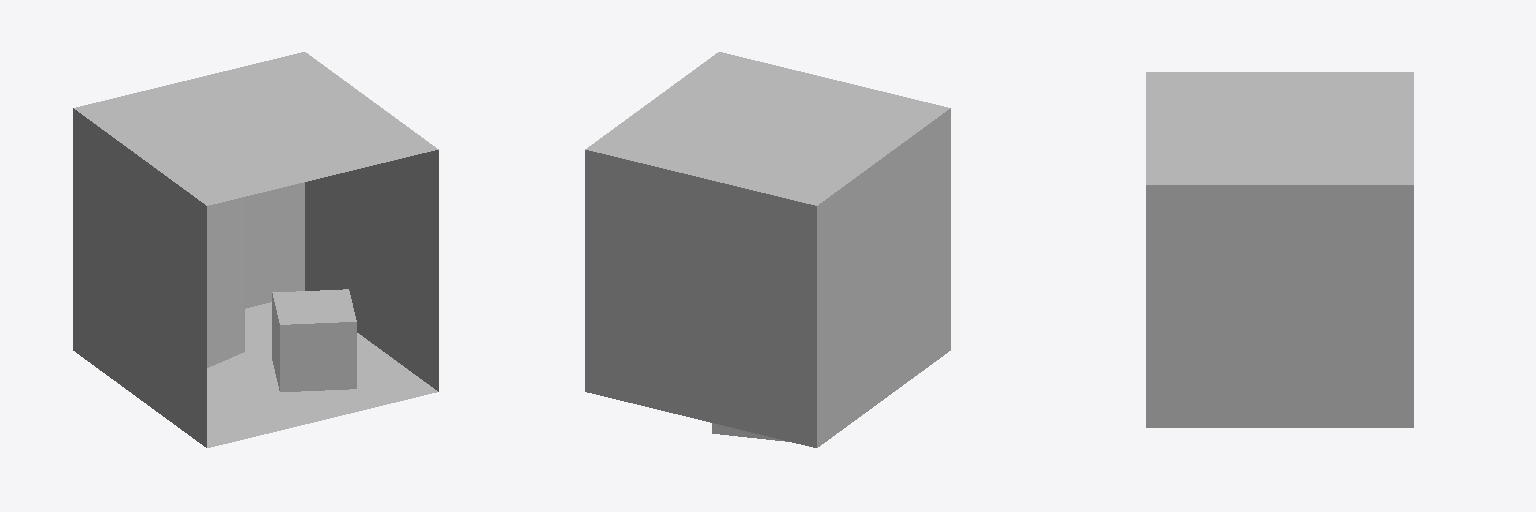
File: CornellBox.obj
3 renders of one model, left to right at view 1: azimuth 30°, elevation 25°; view 2: azimuth 150°, elevation 25°; view 3: azimuth 270°, elevation 25°, orthographic.
Visible parts, largest first — view 1: Cube.001_Cube.002; view 2: Cube.001_Cube.002; view 3: Cube.001_Cube.002.
Part boxes in pixels (x1,y1,x2,y2): Cube.001_Cube.002: (73,52,438,447); Cube.001_Cube.002: (585,52,950,447); Cube.001_Cube.002: (1146,72,1413,427).
Bounding box in the file's own units: 2 × 2.1 × 2.